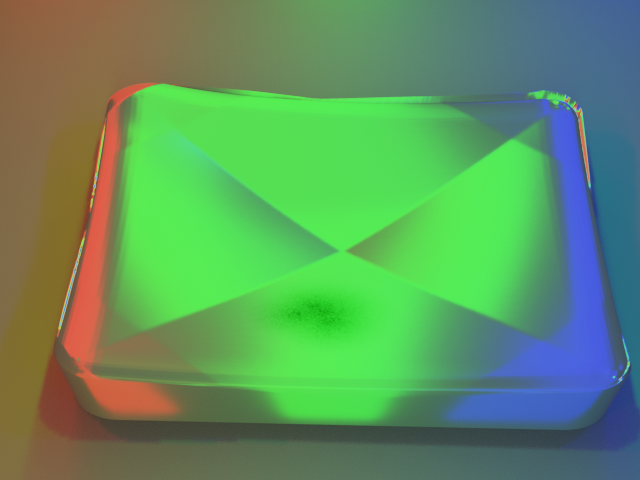smash: (0, 0, 639, 479)
stain: (210, 270, 429, 378)
